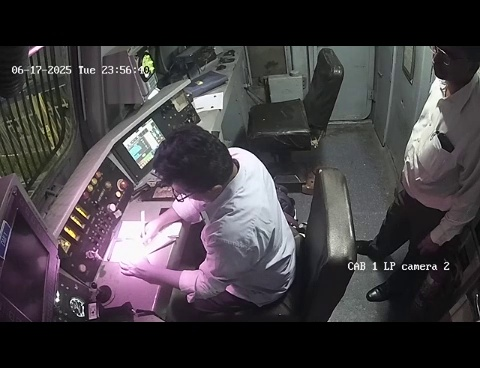horn_inactive: (78, 274, 124, 315)
